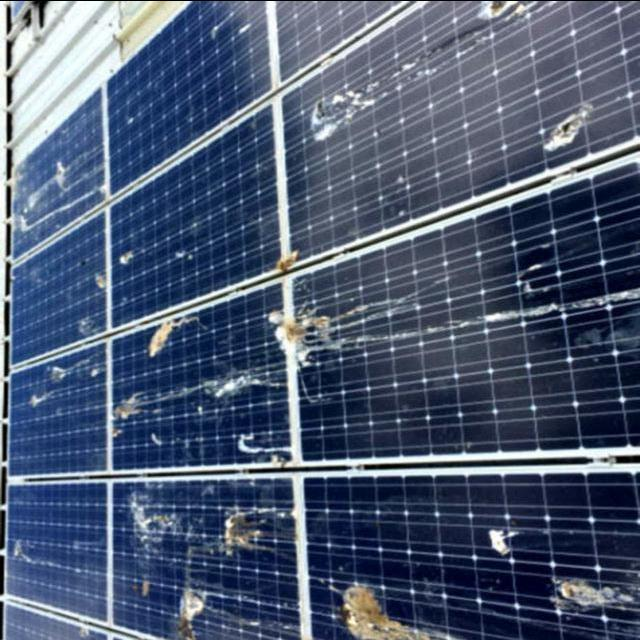soiled: (13, 5, 640, 640)
